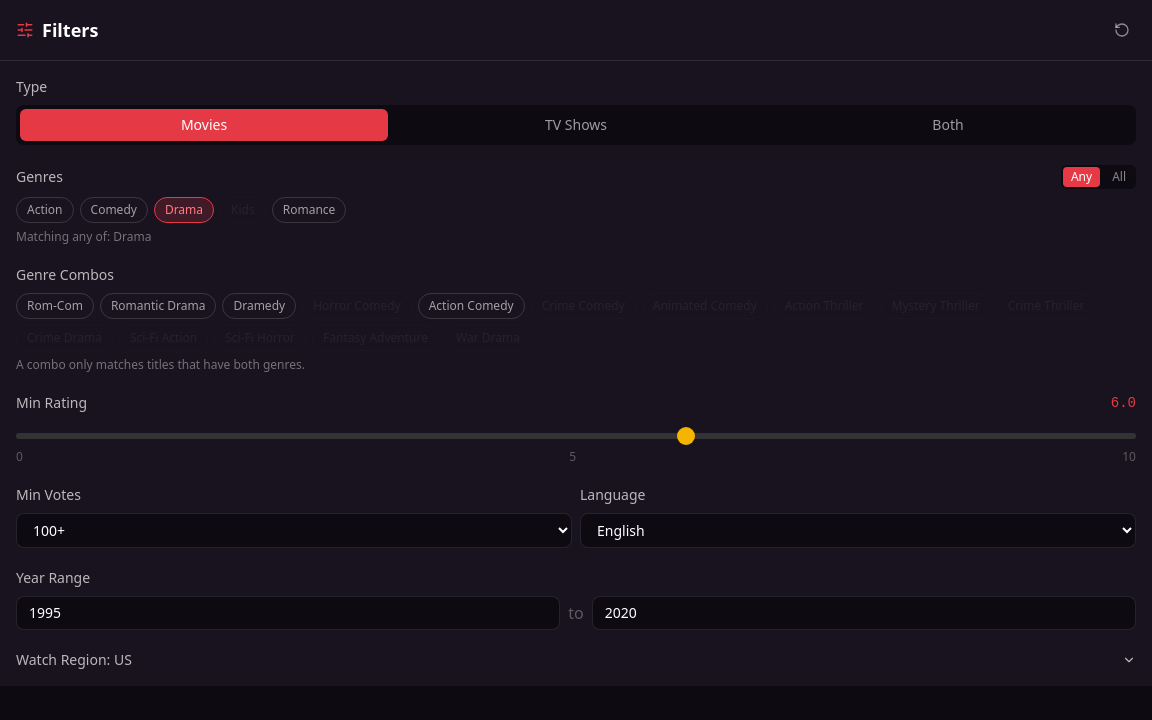
Test: FilterPanel › stores a newly chosen watch region
Click the button "Watch Region: US": (65, 660) [16, 650, 1136, 670]
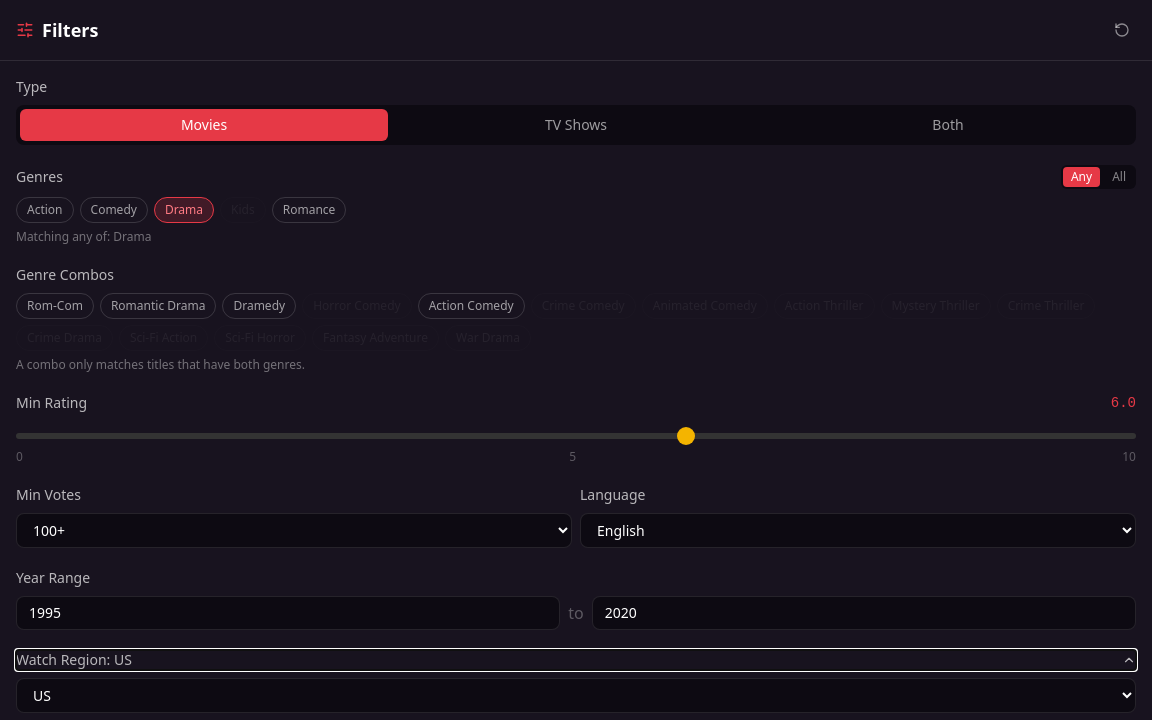
Select "DK" in the dropdown named "Watch region": (576, 696) [16, 678, 1136, 713]
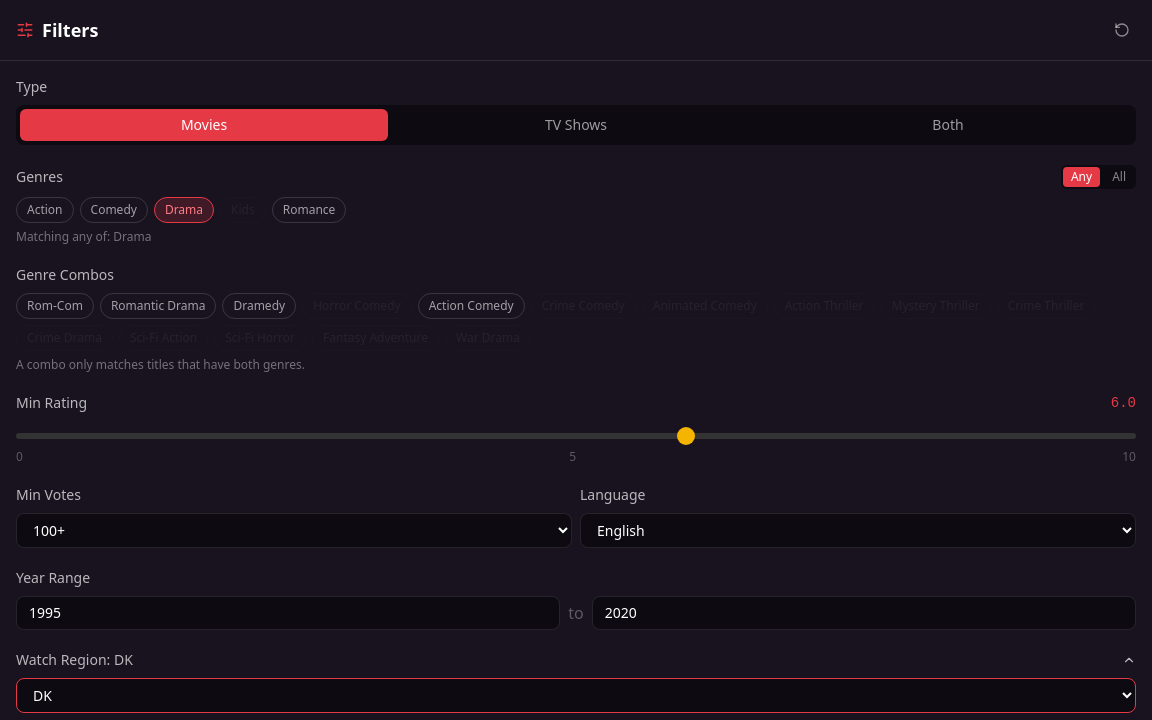
expect the button "Watch Region: DK" is shown: met, box [16, 650, 1136, 670]
